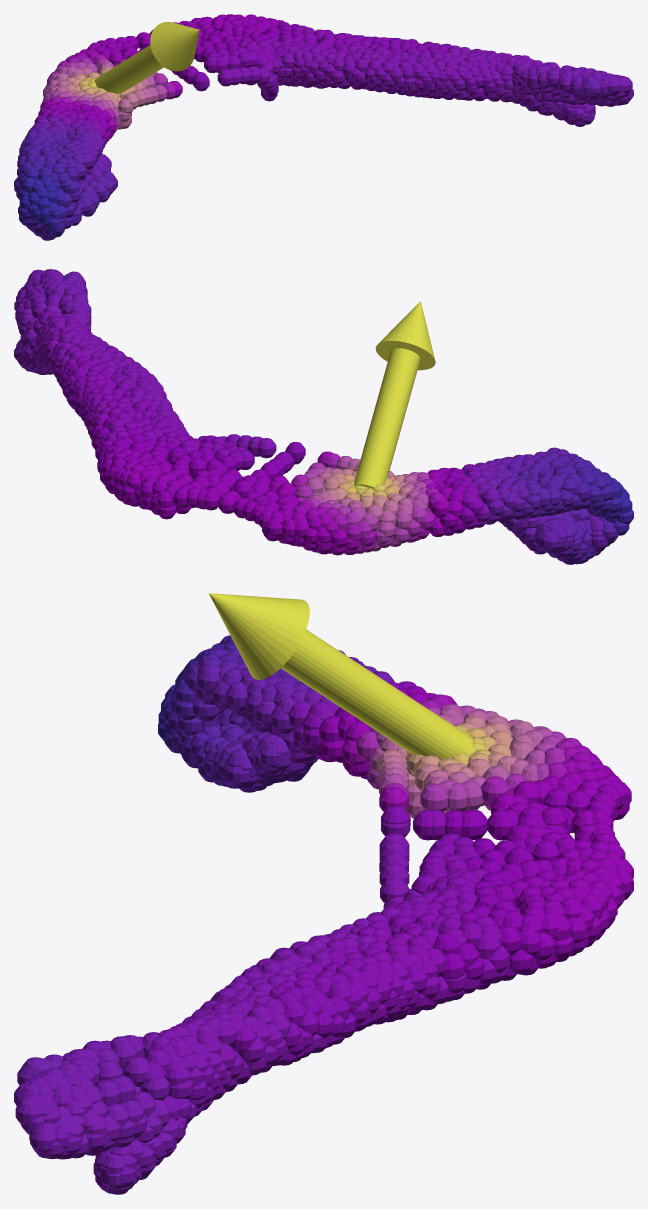
File: pred_heatmap_0.glb
3 renders of one model, top to bottom at view 1: azimuth 30°, elevation 25°; view 2: azimuth 150°, elevation 25°; view 3: azimuth 270°, elevation 25°, orthographic. The views are drawn at different scales.
Parts seen in each view (by area): view 1: world; view 2: world; view 3: world.
Part boxes in pixels (x1=…): world: x1=14, y1=14, x2=633, y2=240; world: x1=14, y1=269, x2=633, y2=564; world: x1=14, y1=593, x2=633, y2=1194.
Size of the model in its own units: 1.5 by 0.451 by 0.7978.
